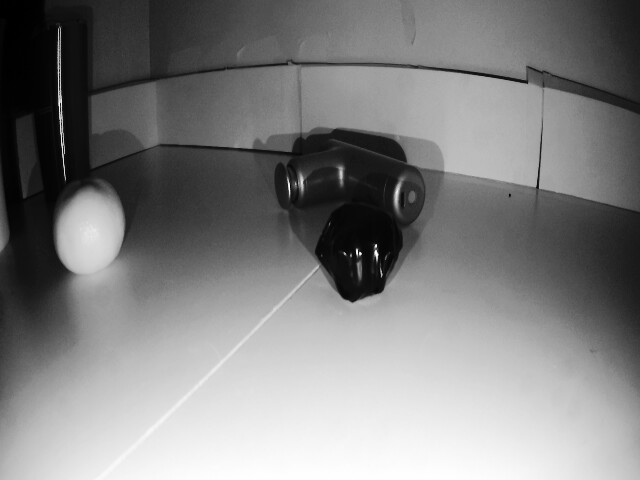silver: (315, 202, 403, 311)
